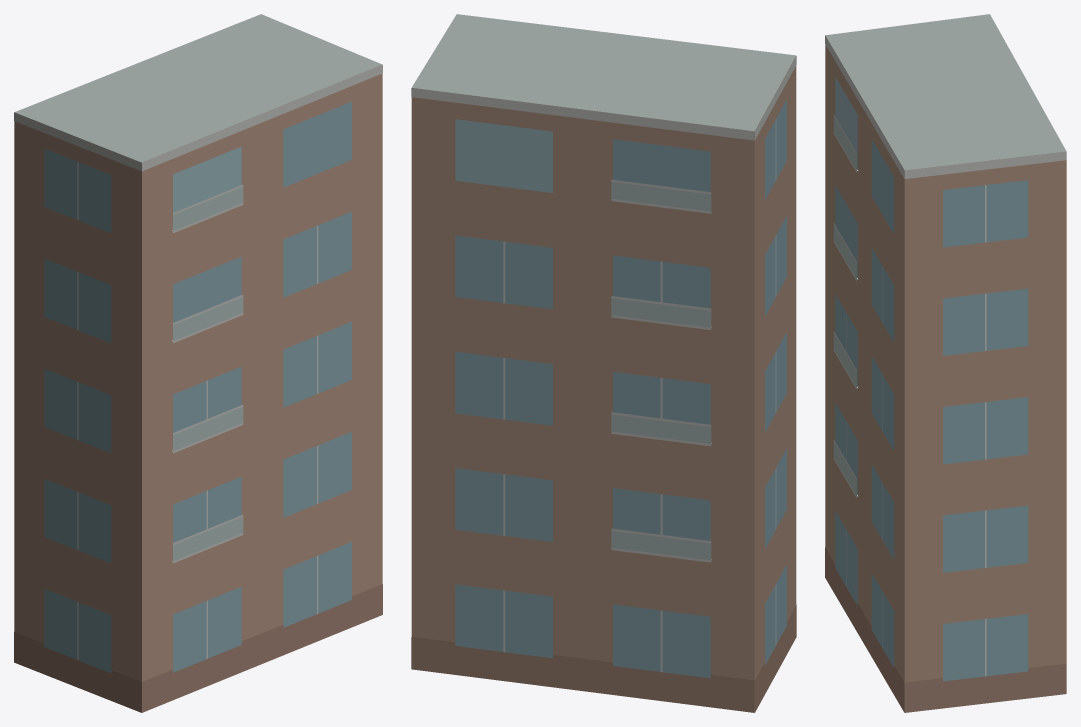
The model's file is survey-upis-32919698.glb.
3 views of the same model, side by side, from view 1: azimuth 30°, elevation 25°; view 2: azimuth 150°, elevation 25°; view 3: azimuth 270°, elevation 25° (orthographic). The views are drawn at different scales.
Parts seen in each view (by area): view 1: survey-upis-32919698.tmp; view 2: survey-upis-32919698.tmp; view 3: survey-upis-32919698.tmp.
Boxes of the visible parts, x1=… form: survey-upis-32919698.tmp: x1=14, y1=14, x2=382, y2=712; survey-upis-32919698.tmp: x1=411, y1=14, x2=796, y2=712; survey-upis-32919698.tmp: x1=825, y1=14, x2=1066, y2=712.
Size of the model in its own units: 9.44 by 15.25 by 6.16.
